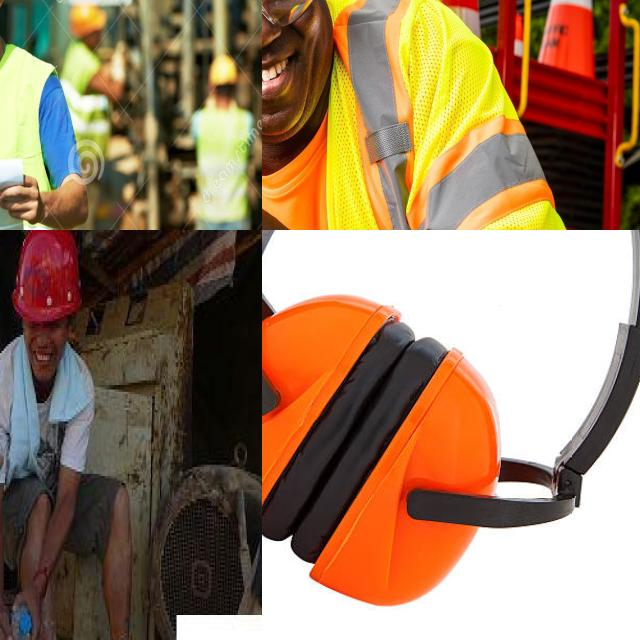Ear-protection: (262, 230, 640, 608)
face_nomask: (262, 0, 318, 123), (25, 333, 67, 384)
hand_noglove: (0, 166, 44, 226), (16, 568, 50, 640)
head_helmet: (9, 230, 87, 326), (66, 0, 108, 35), (208, 55, 240, 87)
person: (262, 0, 630, 230), (0, 0, 69, 230), (187, 48, 256, 230), (61, 0, 112, 230)
vest: (262, 13, 567, 230), (0, 49, 79, 230), (191, 106, 255, 223), (57, 48, 114, 160)
